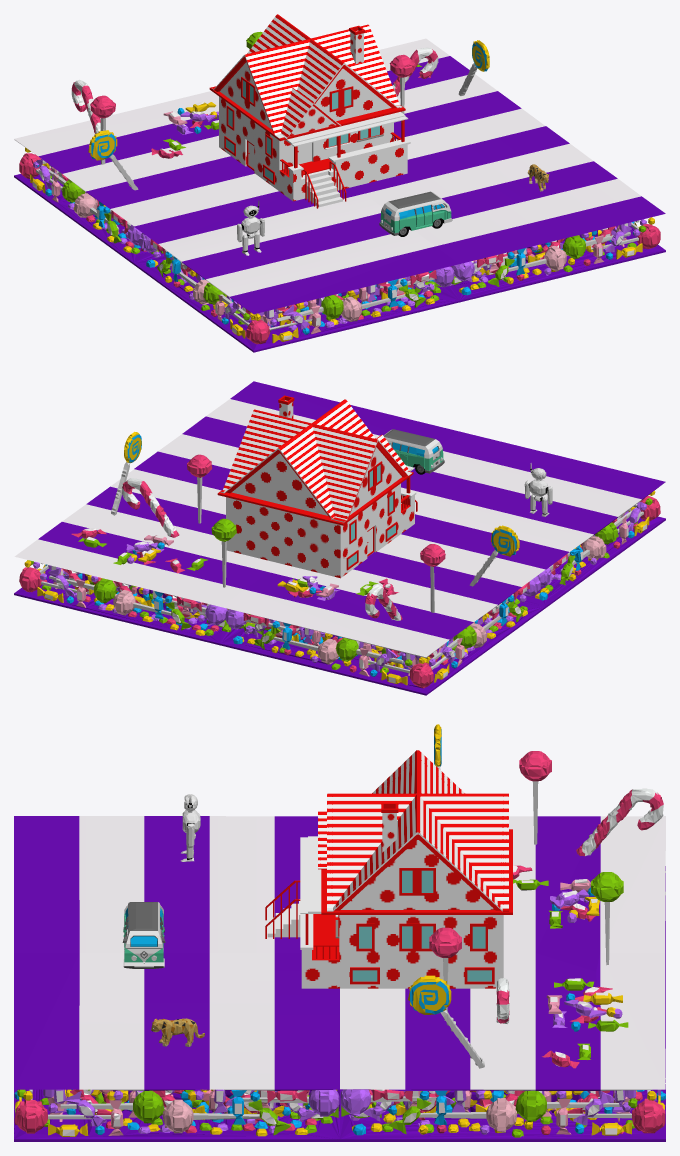
3 views of the same model, one above another, from view 1: azimuth 30°, elevation 25°; view 2: azimuth 150°, elevation 25°; view 3: azimuth 270°, elevation 25° (orthographic). The views are drawn at different scales.
Parts seen in each view (by area): view 1: TERRAIN_CANDY, Cube.196, VEHICLES_VAN, OBJRANDOM_PLATZEEBOT; view 2: TERRAIN_CANDY, Cube.196, VEHICLES_VAN, OBJRANDOM_PLATZEEBOT; view 3: TERRAIN_CANDY, Cube.196, VEHICLES_VAN, ANIMAL_JAGUAR, OBJRANDOM_PLATZEEBOT.
Boxes of the visible parts, x1=… form: TERRAIN_CANDY: x1=14, y1=31, x2=665, y2=352; Cube.196: x1=209, y1=14, x2=410, y2=208; VEHICLES_VAN: x1=379, y1=191, x2=452, y2=236; OBJRANDOM_PLATZEEBOT: x1=237, y1=200, x2=264, y2=255; TERRAIN_CANDY: x1=14, y1=381, x2=665, y2=695; Cube.196: x1=217, y1=395, x2=417, y2=578; VEHICLES_VAN: x1=383, y1=429, x2=444, y2=474; OBJRANDOM_PLATZEEBOT: x1=524, y1=463, x2=552, y2=516; TERRAIN_CANDY: x1=14, y1=724, x2=665, y2=1141; Cube.196: x1=265, y1=750, x2=512, y2=988; VEHICLES_VAN: x1=122, y1=902, x2=165, y2=968; ANIMAL_JAGUAR: x1=151, y1=1018, x2=204, y2=1046; OBJRANDOM_PLATZEEBOT: x1=180, y1=794, x2=200, y2=861.
Bounding box in the file's own units: 4059 × 1685 × 4000.
27 materials, 3 textured.
